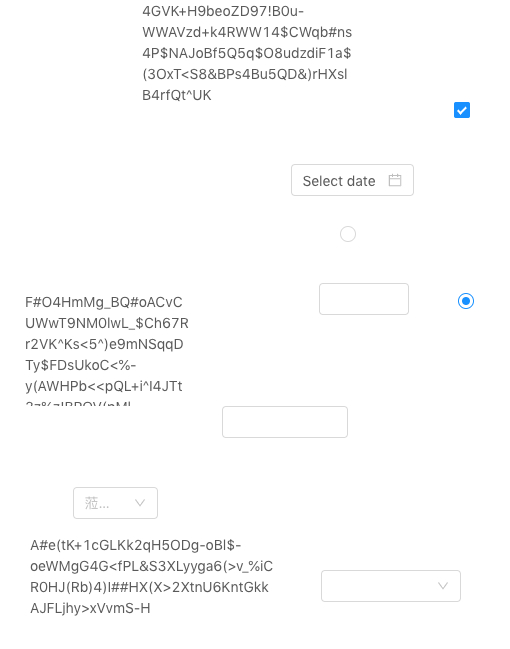Checkbox: (454, 99, 470, 120)
DatePicker: (291, 164, 414, 196)
Input: (319, 283, 458, 315), (222, 406, 348, 438)
Radio: (340, 223, 356, 243), (458, 290, 474, 310)
Select: (321, 570, 461, 602), (73, 487, 158, 519)
Text: (142, 0, 356, 156), (30, 534, 276, 619), (25, 291, 191, 406)
